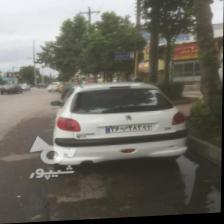plate: (105, 123, 150, 134)
